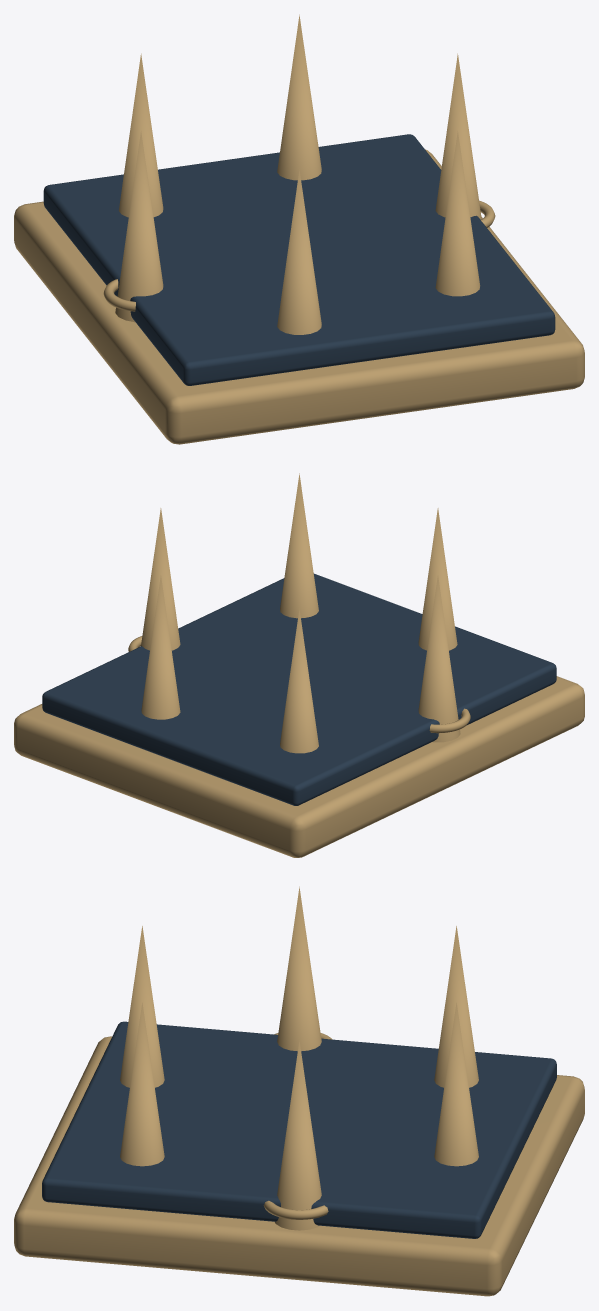
Rendered from SM_HC2_BeatCrown_019.fbx.
3 renders of one model, top to bottom at view 1: azimuth 30°, elevation 25°; view 2: azimuth 150°, elevation 25°; view 3: azimuth 270°, elevation 25°, orthographic. The views are drawn at different scales.
Parts seen in each view (by area): view 1: SM_HC2_BeatCrown_019; view 2: SM_HC2_BeatCrown_019; view 3: SM_HC2_BeatCrown_019.
Boxes of the visible parts, x1,y1,x2,y2 form: SM_HC2_BeatCrown_019: [14, 14, 584, 444]; SM_HC2_BeatCrown_019: [14, 473, 584, 857]; SM_HC2_BeatCrown_019: [14, 886, 584, 1296].
Size of the model in its own units: 263 by 286 by 125.
